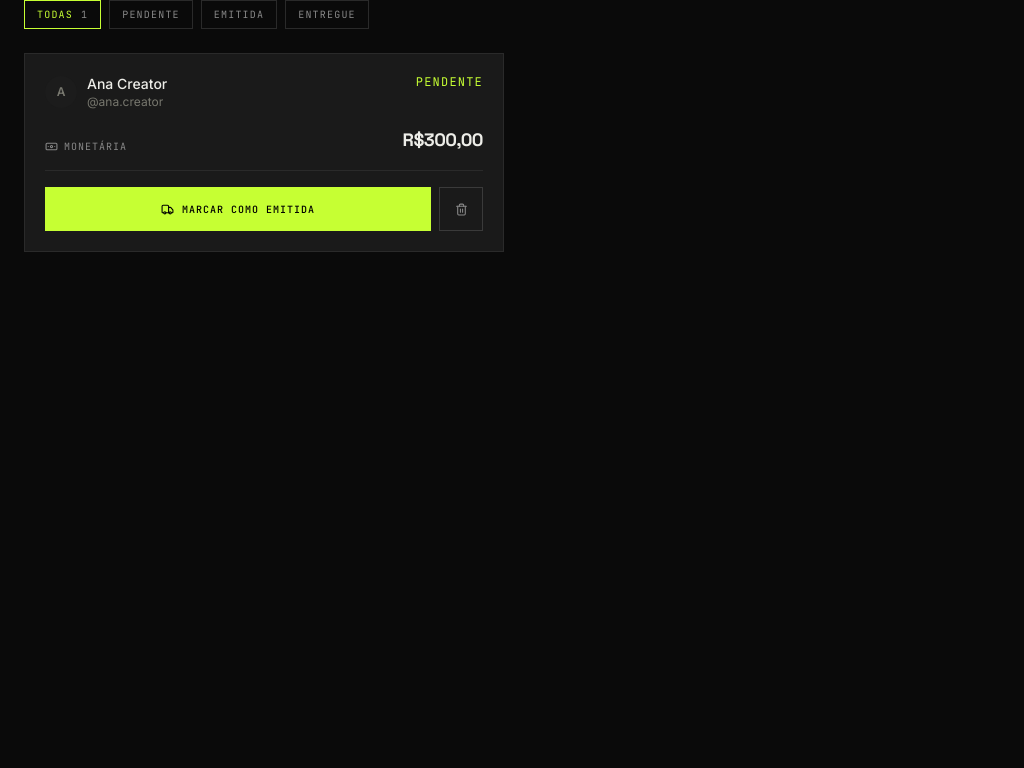
Test: CampaignRewardsTab › remover recompensa › cancelar fecha o modal sem apagar
Step 1. Click the button named "remover recompensa" → [461, 209], box [439,187,483,231]
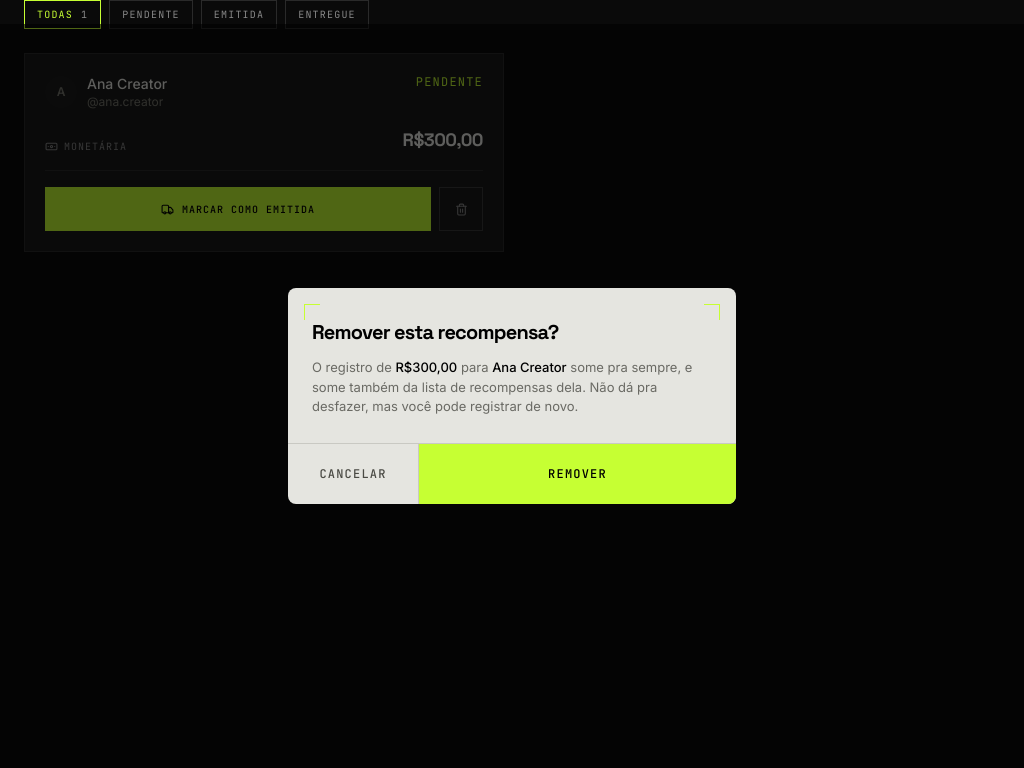
Step 2. Click the button "Cancelar" → [353, 474], box [288,444,418,504]
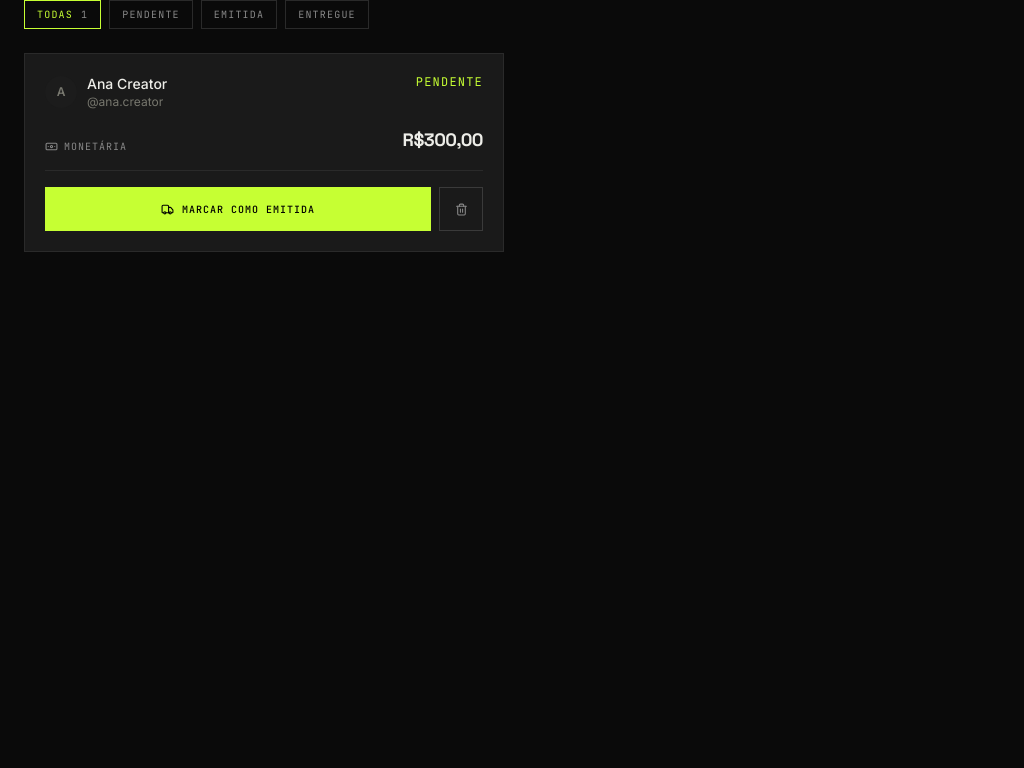
Check: the text "Remover esta recompensa?" is gone
